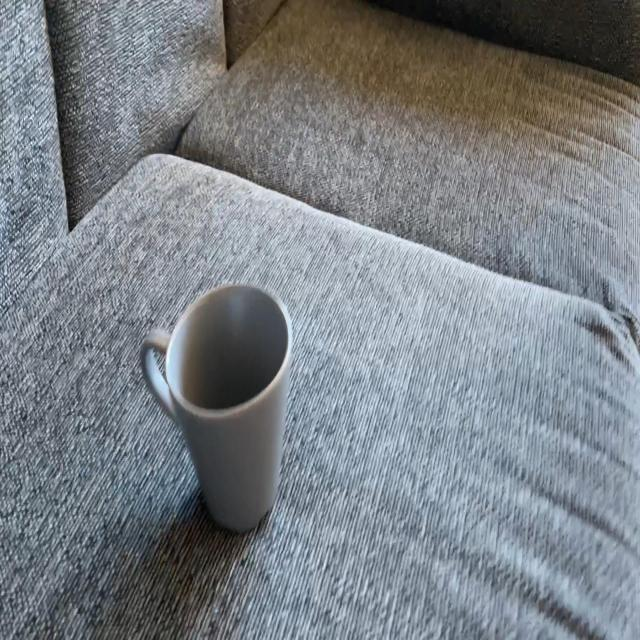cup: (138, 276, 293, 538)
